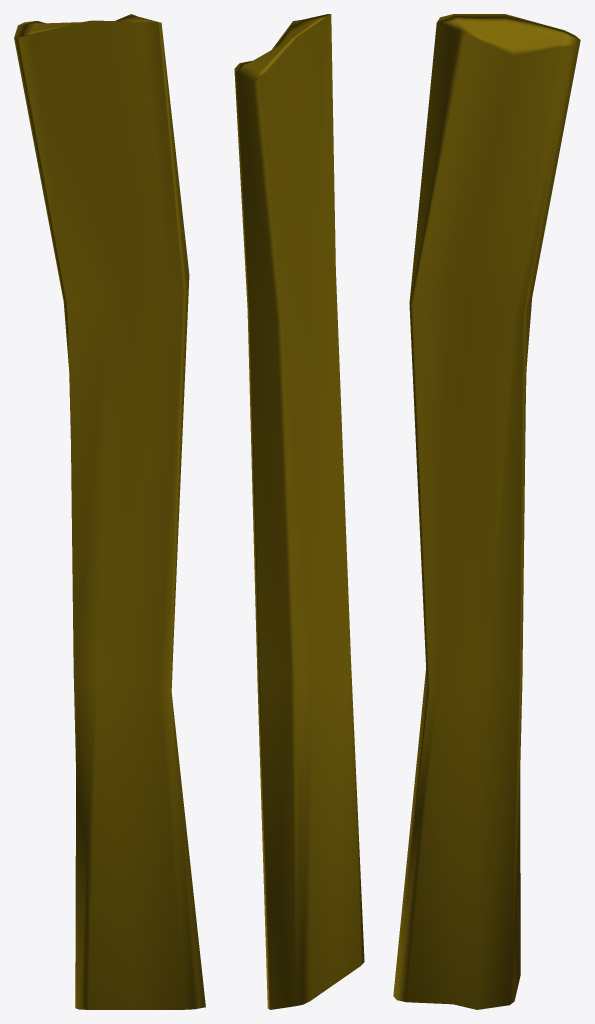
The model's file is MSH_int_plank.fbx.
The picture shows the model from 3 angles, left to right: view 1: azimuth 90°, elevation 25°; view 2: azimuth 150°, elevation 25°; view 3: azimuth 270°, elevation 25°; orthographic projection. The views are drawn at different scales.
Parts seen in each view (by area): view 1: Stand_stick3EWf; view 2: Stand_stick3EWf; view 3: Stand_stick3EWf.
Boxes of the visible parts, left/top/right/bottom form: Stand_stick3EWf: left=14, top=14, right=205, bottom=1009; Stand_stick3EWf: left=234, top=14, right=364, bottom=1009; Stand_stick3EWf: left=393, top=14, right=580, bottom=1009.
Size of the model in its own units: 0.9028 by 13.33 by 2.32.
